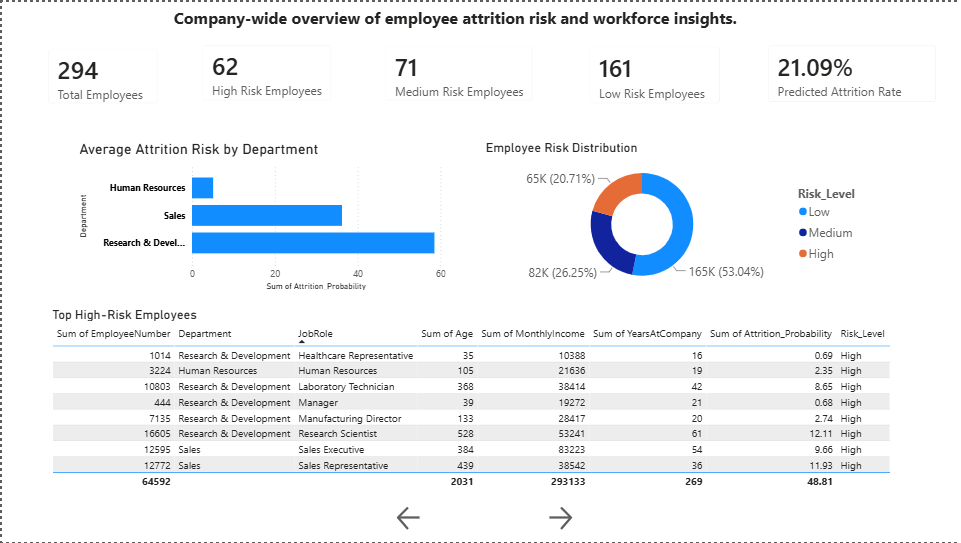

What the dashboard file says about the page in this screenshot:
{"tool":"powerbi","page":{"name":"Executive Dashboard","canvas":[1280,720],"ordinal":1},"visuals":[{"type":"cardVisual","fields":{"Data":["employee_attrition_risk_scores.Total Employees"]},"box":[43.3,45,180,106.7],"z":0},{"type":"cardVisual","fields":{"Data":["employee_attrition_risk_scores.High Risk Employees"]},"box":[250,40,206,108],"z":1000},{"type":"cardVisual","fields":{"Data":["employee_attrition_risk_scores.Medium Risk Employees"]},"box":[494,42,230,106],"z":2000},{"type":"cardVisual","fields":{"Data":["employee_attrition_risk_scores.Low Risk Employees"]},"box":[766,42,208,110],"z":3000},{"type":"cardVisual","fields":{"Data":["employee_attrition_risk_scores.Predicted Attrition Rate"]},"box":[1004,40,258,110],"z":4000},{"type":"clusteredBarChart","title":"Average Attrition Risk by Department","fields":{"Category":["employee_attrition_risk_scores.Department"],"Y":["Sum(employee_attrition_risk_scores.Attrition_Probability)"]},"box":[98.3,183.3,498.3,205],"z":5000},{"type":"donutChart","title":"Employee Risk Distribution","fields":{"Category":["employee_attrition_risk_scores.Risk_Level"],"Y":["Sum(employee_attrition_risk_scores.EmployeeNumber)"]},"box":[640,183.3,520,205],"z":6000},{"type":"tableEx","title":"Top High-Risk Employees","fields":{"Values":["Sum(employee_attrition_risk_scores.EmployeeNumber)","employee_attrition_risk_scores.Department","employee_attrition_risk_scores.JobRole","Sum(employee_attrition_risk_scores.Age)","Sum(employee_attrition_risk_scores.MonthlyIncome)","Sum(employee_attrition_risk_scores.YearsAtCompany)","Sum(employee_attrition_risk_scores.Attrition_Probability)","employee_attrition_risk_scores.Risk_Level"]},"box":[61.7,405,1156.7,263.3],"z":7000},{"type":"textbox","box":[224,0,802,40],"z":8000},{"type":"actionButton","box":[724.2,667.9,42.2,40.7],"z":9000},{"type":"actionButton","box":[522.4,667.9,42.2,40.7],"z":10000}]}

Visuals, with their boxes in screenshot pixels (x1, y1, x2, y2), scaled from the page's 1280x720 canvas onto the 961x543 screenshot:
cardVisual - employee_attrition_risk_scores.Total Employees: x1=33 y1=34 x2=168 y2=114
cardVisual - employee_attrition_risk_scores.High Risk Employees: x1=188 y1=30 x2=342 y2=112
cardVisual - employee_attrition_risk_scores.Medium Risk Employees: x1=371 y1=32 x2=544 y2=112
cardVisual - employee_attrition_risk_scores.Low Risk Employees: x1=575 y1=32 x2=731 y2=115
cardVisual - employee_attrition_risk_scores.Predicted Attrition Rate: x1=754 y1=30 x2=947 y2=113
"Average Attrition Risk by Department" clusteredBarChart: x1=74 y1=138 x2=448 y2=293
"Employee Risk Distribution" donutChart: x1=480 y1=138 x2=871 y2=293
"Top High-Risk Employees" tableEx: x1=46 y1=305 x2=915 y2=504
textbox: x1=168 y1=0 x2=770 y2=30
actionButton: x1=544 y1=504 x2=575 y2=534
actionButton: x1=392 y1=504 x2=424 y2=534
